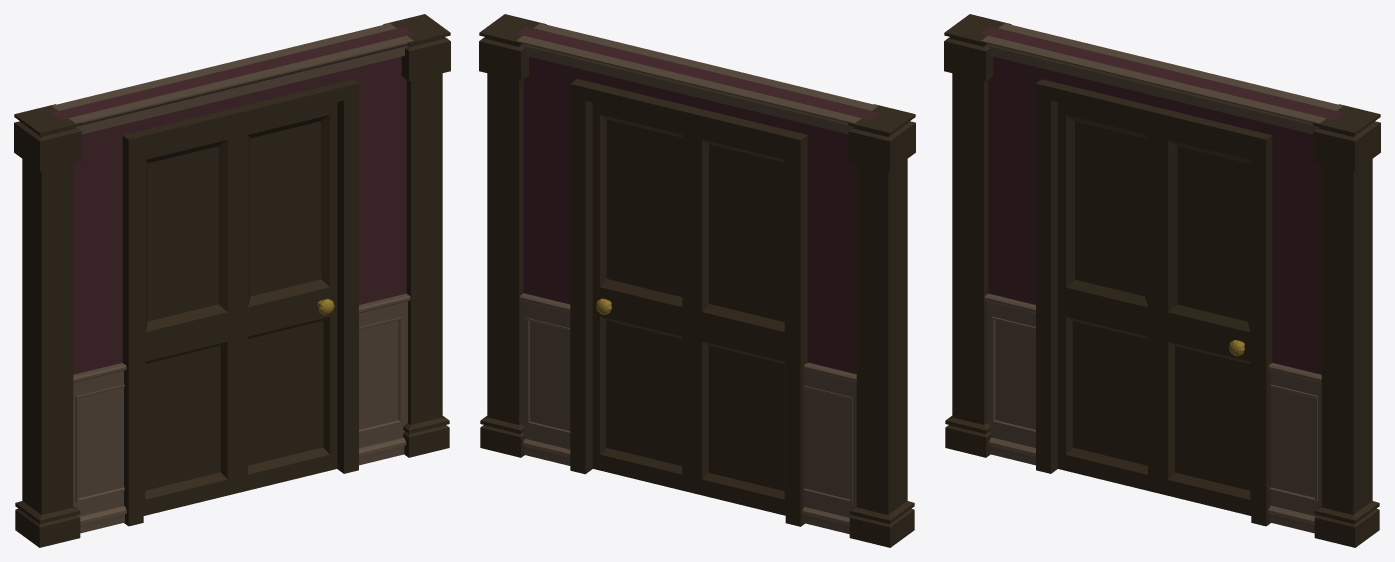
Rendered from Wall_Big_Door.fbx.
3 renders of one model, left to right at view 1: azimuth 30°, elevation 25°; view 2: azimuth 150°, elevation 25°; view 3: azimuth 330°, elevation 25°, orthographic.
Visible parts, largest first — view 1: Door, polySurface12, pCube13, polySurface8, pCube23, polySurface14, pCube8, pCube27, polySurface22, polySurface13, polySurface15, polySurface16; view 2: Door, polySurface12, pCube13, polySurface8, pCube23, polySurface23, pCube27, pCube8, polySurface21, polySurface17, polySurface18, polySurface19; view 3: Door, polySurface12, pCube23, polySurface8, pCube13, polySurface14, pCube8, pCube27, polySurface22, polySurface13, polySurface16, polySurface15.
Boxes of the visible parts, x1=… form: Door: x1=143, y1=102, x2=337, y2=515; polySurface12: x1=51, y1=26, x2=414, y2=374; pCube13: x1=14, y1=104, x2=81, y2=547; polySurface8: x1=122, y1=79, x2=358, y2=526; pCube23: x1=383, y1=14, x2=450, y2=457; polySurface14: x1=73, y1=301, x2=407, y2=516; pCube8: x1=68, y1=35, x2=413, y2=134; pCube27: x1=51, y1=23, x2=396, y2=110; polySurface22: x1=79, y1=437, x2=406, y2=533; polySurface13: x1=73, y1=293, x2=410, y2=382; polySurface15: x1=359, y1=317, x2=402, y2=432; polySurface16: x1=75, y1=384, x2=124, y2=501; Door: x1=592, y1=103, x2=785, y2=515; polySurface12: x1=516, y1=26, x2=879, y2=374; pCube13: x1=848, y1=104, x2=915, y2=547; polySurface8: x1=570, y1=79, x2=807, y2=526; pCube23: x1=479, y1=14, x2=546, y2=457; polySurface23: x1=520, y1=300, x2=856, y2=517; pCube27: x1=516, y1=35, x2=861, y2=133; pCube8: x1=533, y1=23, x2=878, y2=110; polySurface21: x1=523, y1=438, x2=849, y2=534; polySurface17: x1=520, y1=293, x2=856, y2=382; polySurface18: x1=803, y1=385, x2=852, y2=502; polySurface19: x1=526, y1=318, x2=570, y2=433; Door: x1=1057, y1=102, x2=1251, y2=515; polySurface12: x1=980, y1=27, x2=1344, y2=374; pCube23: x1=1313, y1=104, x2=1380, y2=547; polySurface8: x1=1036, y1=79, x2=1272, y2=526; pCube13: x1=944, y1=14, x2=1011, y2=457; polySurface14: x1=987, y1=301, x2=1321, y2=516; pCube8: x1=981, y1=35, x2=1326, y2=134; pCube27: x1=998, y1=23, x2=1343, y2=111; polySurface22: x1=988, y1=437, x2=1315, y2=533; polySurface13: x1=984, y1=293, x2=1321, y2=382; polySurface16: x1=991, y1=316, x2=1035, y2=432; polySurface15: x1=1270, y1=384, x2=1317, y2=501.
Bounding box in the file's own units: 60.92 × 59.03 × 6.61.
